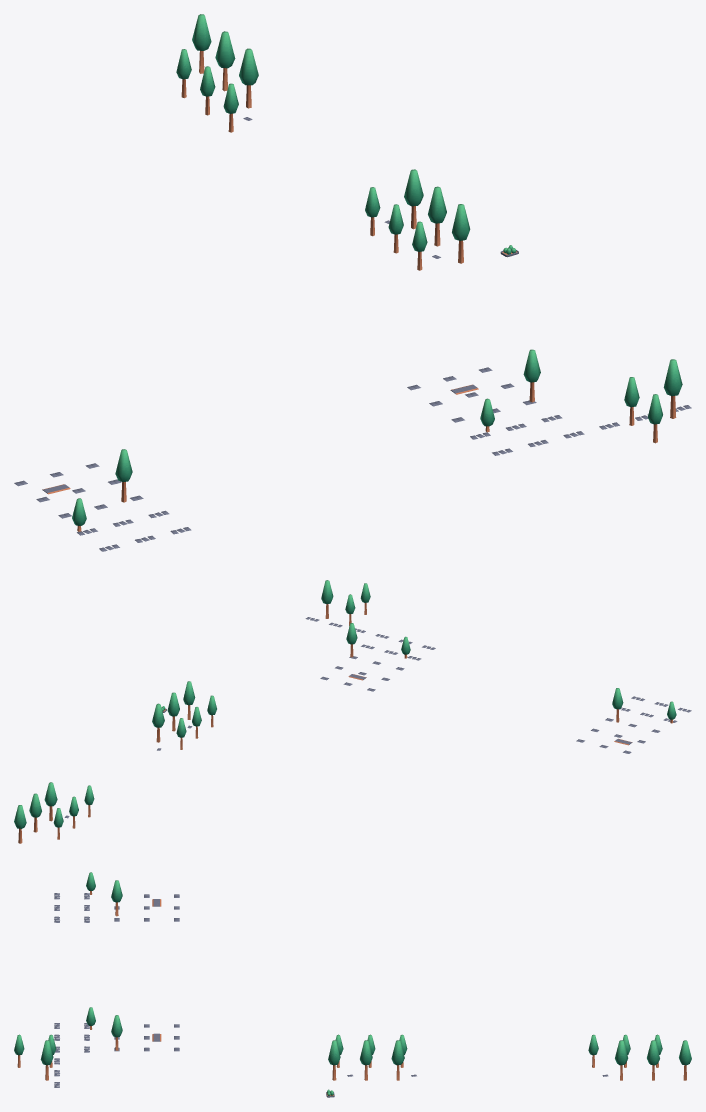
Rendered from wf02-hero-block-mass-east.glb.
3 views of the same model, one above another, from view 1: azimuth 30°, elevation 25°; view 2: azimuth 150°, elevation 25°; view 3: azimuth 270°, elevation 25° (orthographic). The views are drawn at different scales.
Bounding box in the file's own units: 24.31 × 2.15 × 33.99.
Materials: 58 (58 with a texture image).
